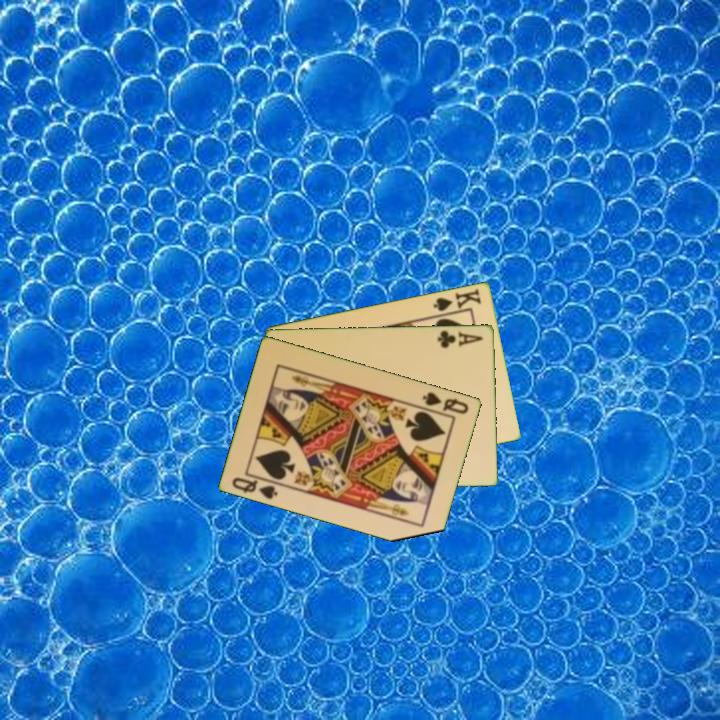Ac: (434, 327, 486, 350)
Ks: (430, 284, 484, 318)
Qs: (229, 470, 284, 502), (419, 388, 472, 417)
